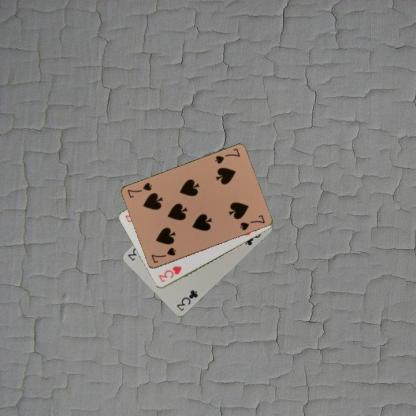3c: (174, 288, 199, 312)
3h: (156, 264, 183, 284)
7s: (148, 245, 178, 265), (212, 146, 241, 165)
